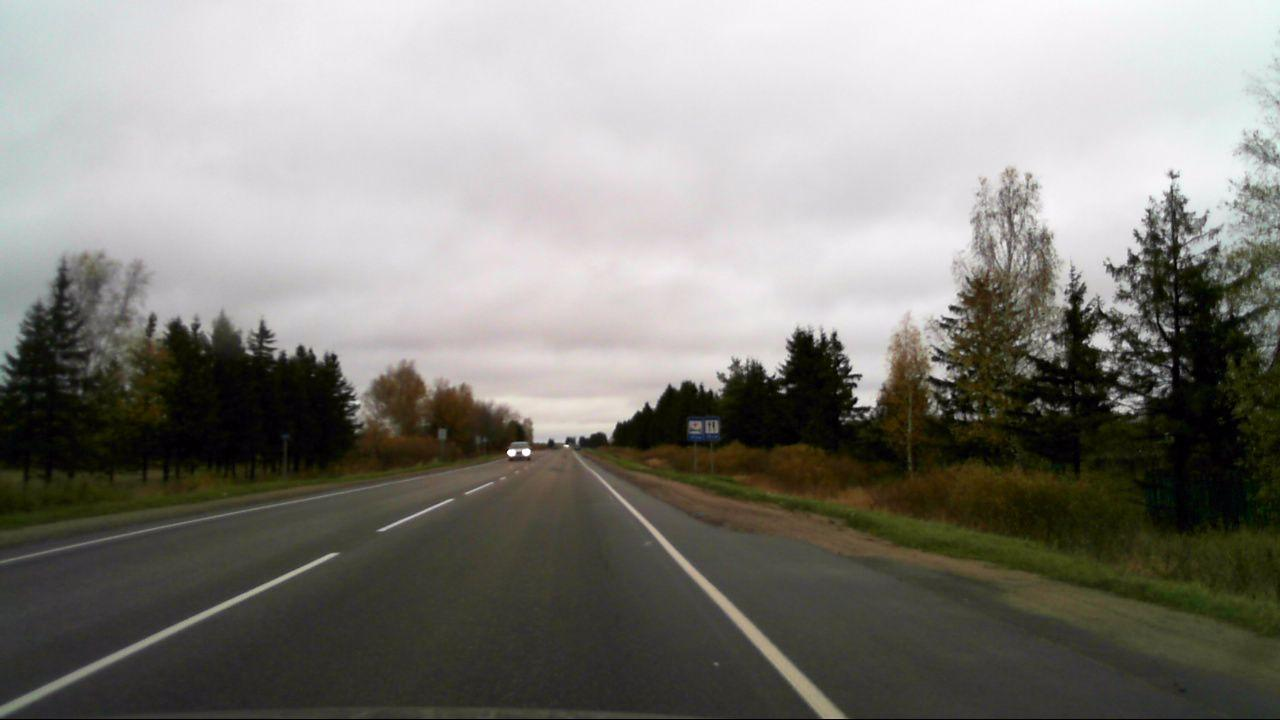7_2: (687, 417, 704, 443)
7_7: (702, 416, 721, 441)
